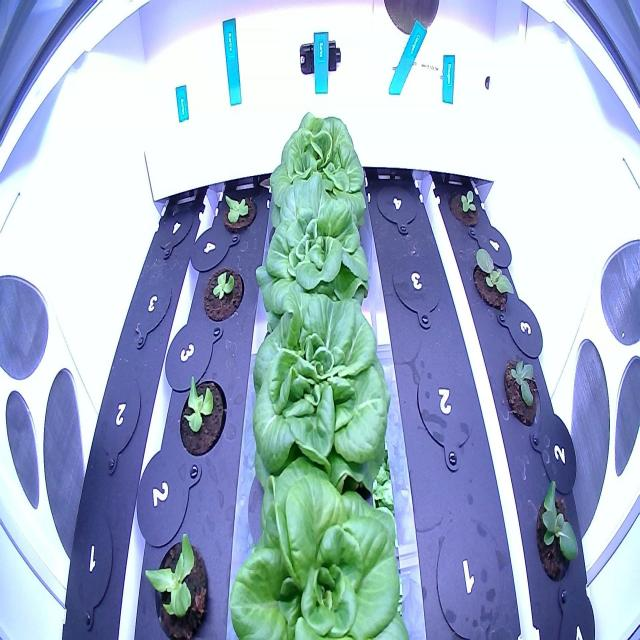empty_pod: (429, 511, 514, 639), (412, 349, 479, 477), (64, 504, 120, 632), (92, 358, 148, 480), (390, 243, 446, 329), (126, 268, 176, 350), (373, 170, 422, 237), (154, 191, 197, 264)
young: (221, 457, 420, 640), (243, 282, 398, 494), (251, 162, 375, 326), (261, 106, 375, 227), (140, 521, 212, 639), (532, 468, 588, 588), (172, 360, 233, 462), (500, 344, 544, 439), (466, 242, 519, 320), (198, 251, 248, 331), (445, 171, 488, 237), (217, 178, 260, 242)
